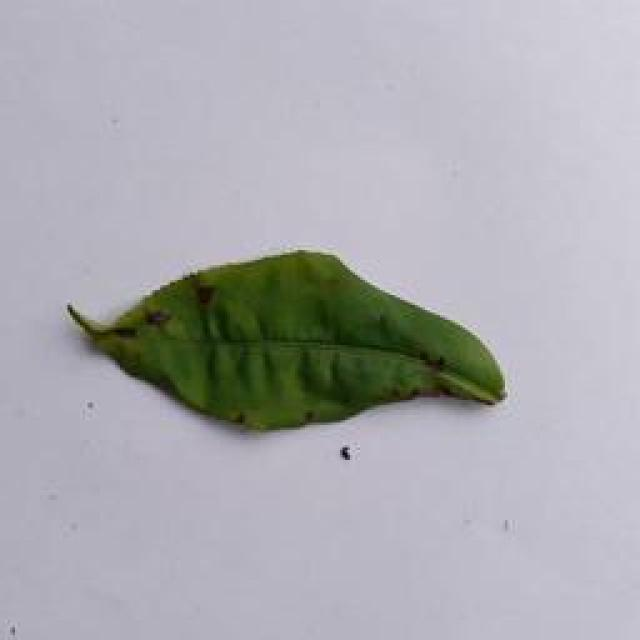Helopeltis: (57, 236, 514, 440)
